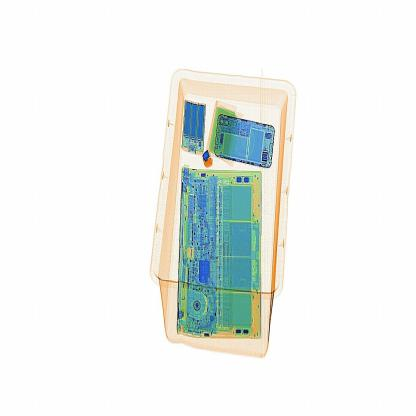wrench: (201, 150, 216, 171)
